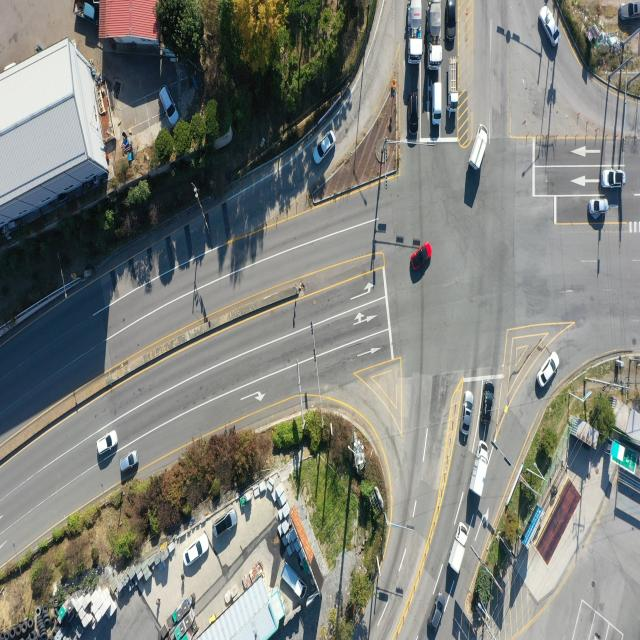car: (183, 534, 211, 568), (541, 3, 560, 46), (538, 352, 560, 388), (158, 84, 176, 124), (314, 132, 334, 166), (483, 381, 495, 435), (428, 593, 446, 628), (461, 392, 473, 444), (214, 511, 236, 539), (412, 242, 432, 272), (97, 430, 119, 455), (430, 82, 442, 126), (409, 96, 420, 142), (600, 170, 626, 189), (118, 451, 138, 472), (619, 1, 640, 20), (590, 198, 610, 216), (448, 3, 457, 41)
medium_truck: (427, 0, 443, 65), (410, 0, 426, 61)
small_truck: (470, 442, 491, 498), (447, 522, 467, 574), (468, 125, 486, 171), (282, 564, 306, 598), (70, 0, 96, 26), (447, 58, 458, 108)
